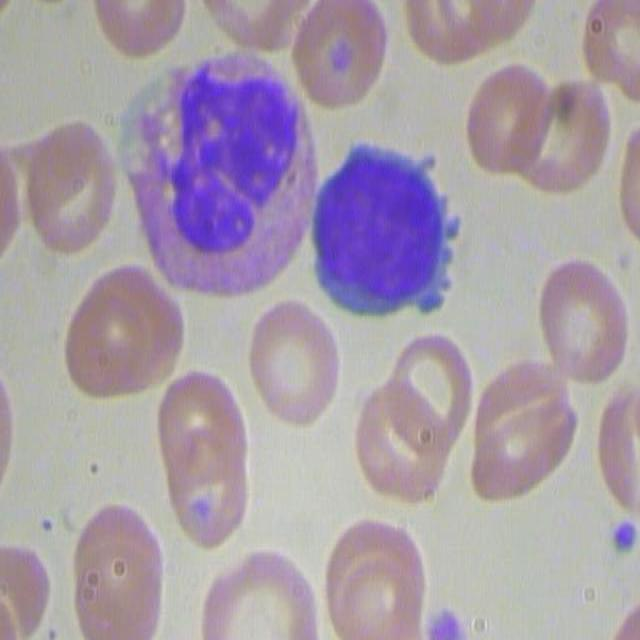RBC: (354, 318, 472, 504), (155, 360, 254, 552), (62, 265, 185, 409), (466, 351, 574, 503), (19, 115, 117, 262), (67, 501, 170, 640), (318, 512, 430, 638), (244, 292, 341, 430), (538, 256, 632, 388), (462, 64, 554, 192), (198, 545, 319, 638), (292, 0, 388, 117), (389, 324, 478, 444), (400, 0, 538, 66), (598, 358, 640, 512), (196, 0, 320, 50), (92, 0, 194, 59), (584, 0, 640, 107), (0, 533, 49, 636)
WBC: (128, 39, 308, 304), (312, 131, 468, 336)
platelets: (607, 516, 640, 556), (440, 598, 462, 640)
